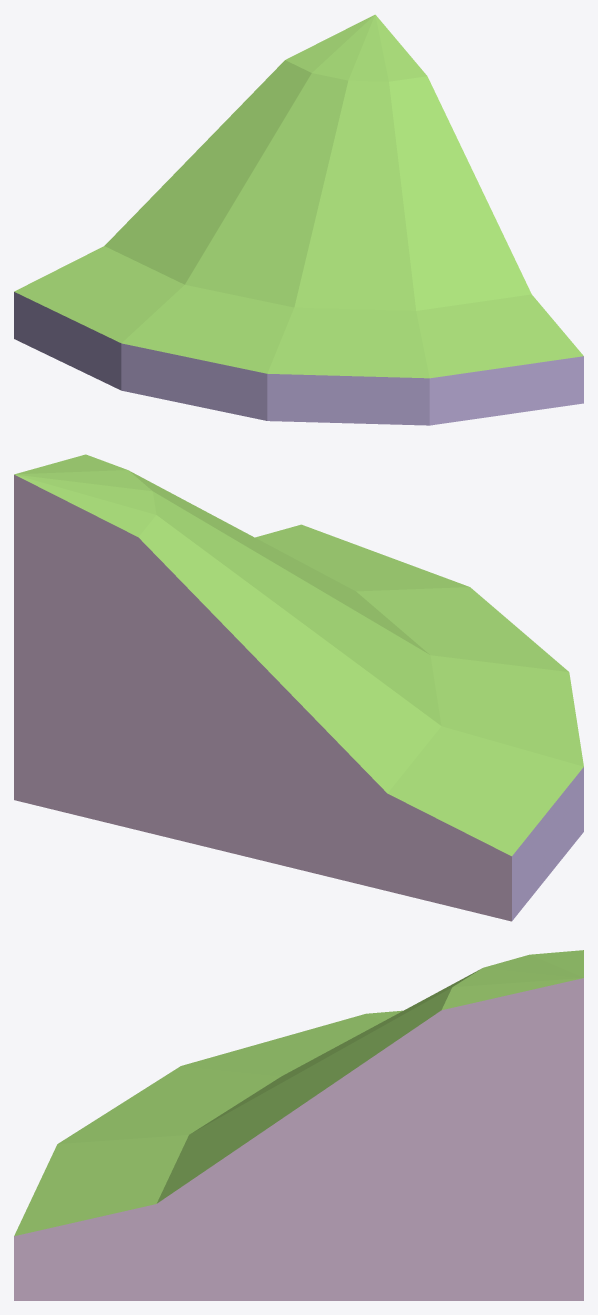
The model's file is Grass_Hill_Sharp_Curve_Outer_2x2.fbx.
3 renders of one model, top to bottom at view 1: azimuth 30°, elevation 25°; view 2: azimuth 150°, elevation 25°; view 3: azimuth 270°, elevation 25°, orthographic. The views are drawn at different scales.
Parts seen in each view (by area): view 1: Grass_Hill_Sharp_Curve_Outer_2x2; view 2: Grass_Hill_Sharp_Curve_Outer_2x2; view 3: Grass_Hill_Sharp_Curve_Outer_2x2.
Part boxes in pixels (x1,y1,x2,y2): Grass_Hill_Sharp_Curve_Outer_2x2: (14, 14, 583, 425); Grass_Hill_Sharp_Curve_Outer_2x2: (14, 454, 583, 921); Grass_Hill_Sharp_Curve_Outer_2x2: (14, 950, 583, 1300).
Size of the model in its own units: 200 by 125 by 200.
